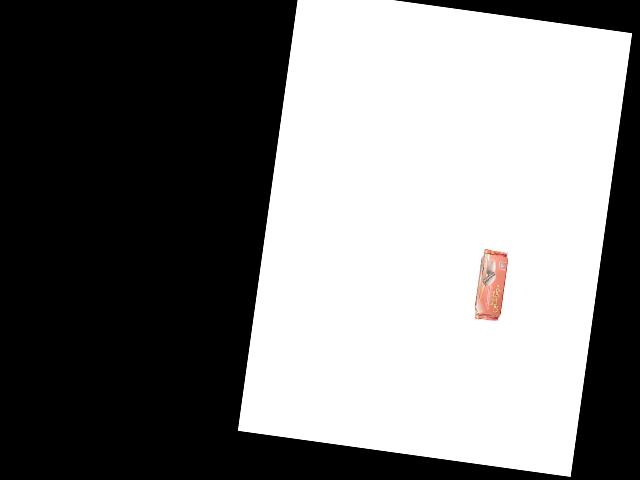chocolate: (466, 246, 509, 322)
